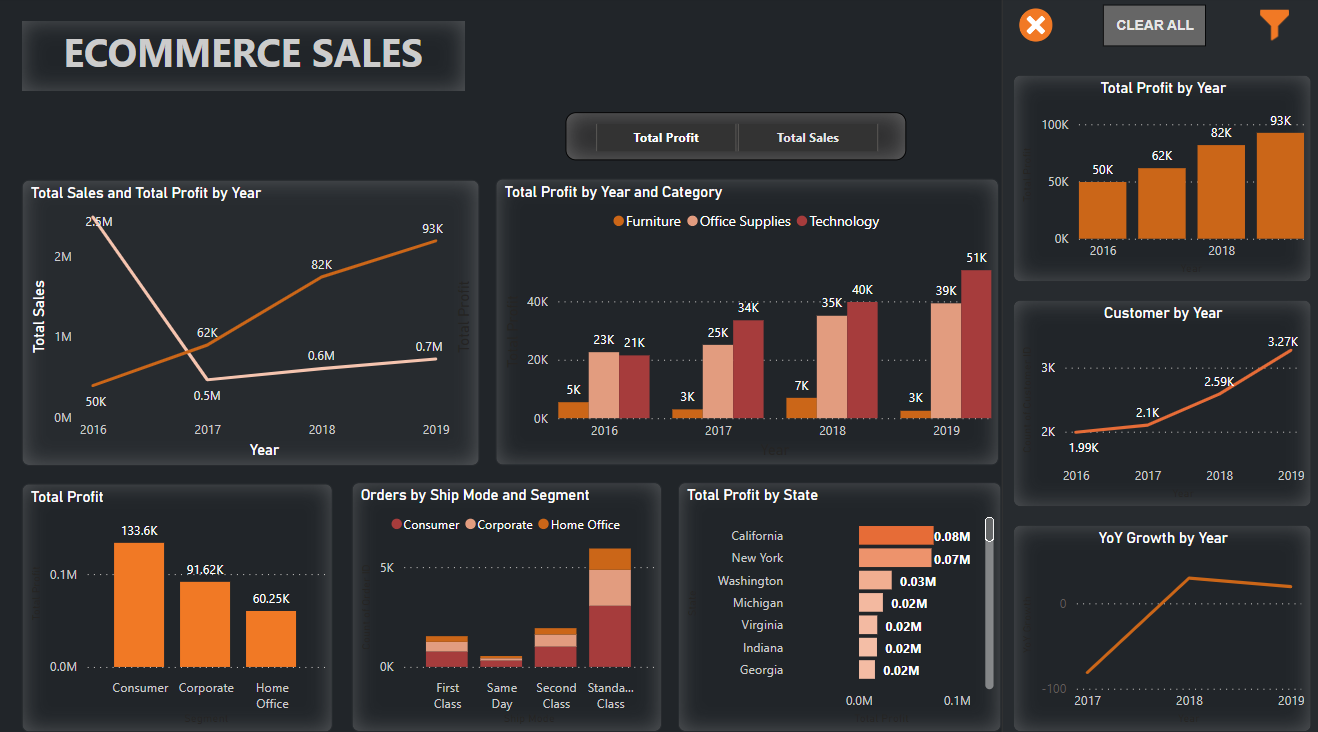

This screenshot's page, from the dashboard's own definition file:
{"tool":"powerbi","page":{"name":"Overview","canvas":[1280,720],"ordinal":0},"visuals":[{"type":"shape","box":[968.4,0,311.2,720],"z":0},{"type":"textbox","box":[22.9,24.1,426.9,67.5],"z":2000},{"type":"actionButton","title":"CLEAR ALL","box":[1066.1,8.4,98.9,39.8],"z":3000},{"type":"lineChart","title":"YoY Growth by Year","fields":{"Category":["DateMaster.Date.Variation.Date Hierarchy.Year"],"Y":["Ecommerce.YoYGrowth"]},"box":[979.3,510.2,288.2,200.2],"z":5000},{"type":"lineChart","fields":{"Category":["DateMaster.Date.Variation.Date Hierarchy.Year","DateMaster.Date.Variation.Date Hierarchy.Month"],"Y":["Ecommerce.Total Sales"],"Y2":["Ecommerce.Total Profit"]},"box":[23.5,176.8,441.4,275.7],"z":6000},{"type":"clusteredColumnChart","fields":{"Y":["Ecommerce.Total Profit"],"Category":["DateMaster.Date.Variation.Date Hierarchy.Year","DateMaster.Date.Variation.Date Hierarchy.Month"],"Series":["Ecommerce.Category"]},"box":[479.8,175.6,485.9,277],"z":7000},{"type":"clusteredColumnChart","fields":{"Y":["Ecommerce.Total Profit"],"Category":["Ecommerce.Segment"]},"box":[23.5,469.9,300,240],"z":8000},{"type":"columnChart","title":"Orders by Ship Mode and Segment","fields":{"Category":["Ecommerce.Ship Mode"],"Series":["Ecommerce.Segment"],"Y":["CountNonNull(Ecommerce.Order ID)"]},"box":[341.3,468.6,299.2,241.1],"z":9000},{"type":"clusteredBarChart","fields":{"Y":["Ecommerce.Total Profit"],"Category":["Ecommerce.State"]},"box":[656.3,469.3,311.7,240.7],"z":10000},{"type":"clusteredColumnChart","fields":{"Y":["Ecommerce.Total Profit"],"Category":["DateMaster.Date.Variation.Date Hierarchy.Year"]},"box":[979.3,76,288.2,200.2],"z":11000},{"type":"lineChart","title":"Customer by Year","fields":{"Category":["DateMaster.Date.Variation.Date Hierarchy.Year"],"Y":["CountNonNull(Ecommerce.Customer ID)"]},"box":[979.3,293.1,288.2,200.2],"z":12000},{"type":"slicer","fields":{"Values":["Parameter 2.Parameter"]},"box":[547.2,112.6,329,46.8],"z":13000},{"type":"image","box":[981.1,2.9,41.8,51.9],"z":14000},{"type":"image","box":[1209.6,8.4,44.6,39.8],"z":15000}]}

Visuals, with their boxes in screenshot pixels (x1, y1, x2, y2), scaled from the page's 1280x720 canvas onto the 1318x732 screenshot:
shape: region(997, 0, 1317, 731)
textbox: region(24, 25, 463, 93)
"CLEAR ALL" actionButton: region(1098, 9, 1200, 49)
"YoY Growth by Year" lineChart: region(1008, 519, 1305, 722)
lineChart - DateMaster.Date.Variation.Date Hierarchy.Year x DateMaster.Date.Variation.Date Hierarchy.Month: region(24, 180, 479, 460)
clusteredColumnChart - Ecommerce.Total Profit x DateMaster.Date.Variation.Date Hierarchy.Year: region(494, 179, 994, 460)
clusteredColumnChart - Ecommerce.Total Profit x Ecommerce.Segment: region(24, 478, 333, 722)
"Orders by Ship Mode and Segment" columnChart: region(351, 476, 660, 722)
clusteredBarChart - Ecommerce.Total Profit x Ecommerce.State: region(676, 477, 997, 722)
clusteredColumnChart - Ecommerce.Total Profit x DateMaster.Date.Variation.Date Hierarchy.Year: region(1008, 77, 1305, 281)
"Customer by Year" lineChart: region(1008, 298, 1305, 502)
slicer - Parameter 2.Parameter: region(563, 114, 902, 162)
image: region(1010, 3, 1053, 56)
image: region(1246, 9, 1291, 49)
